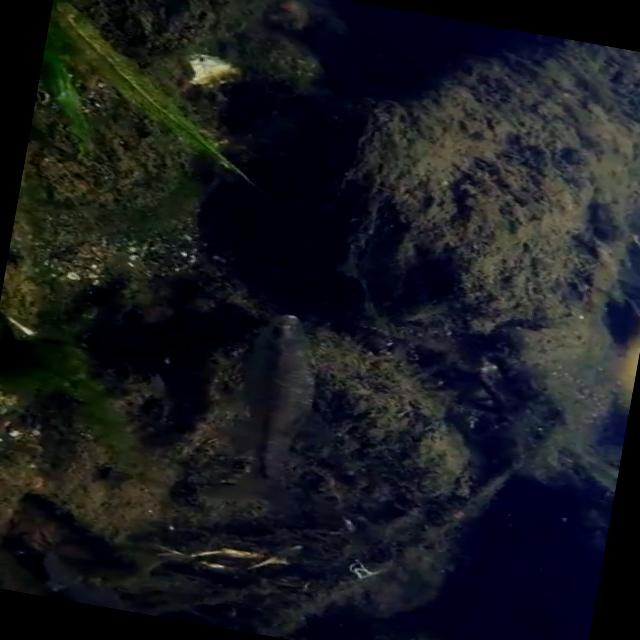Cakil Baligi: (199, 302, 340, 518)
